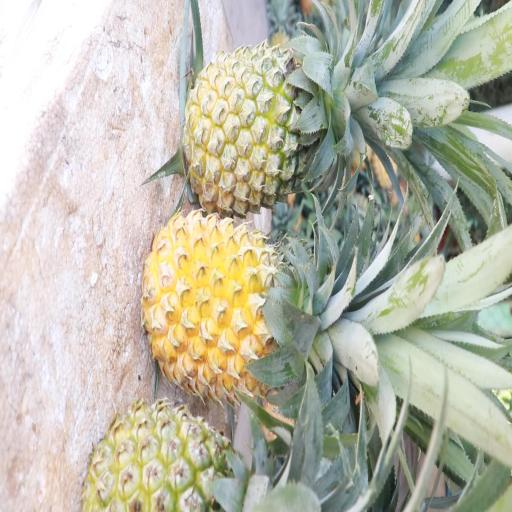------------------------------: (186, 51, 337, 211), (85, 407, 251, 512)
Pineapple - v8 v1: (147, 209, 303, 387)
